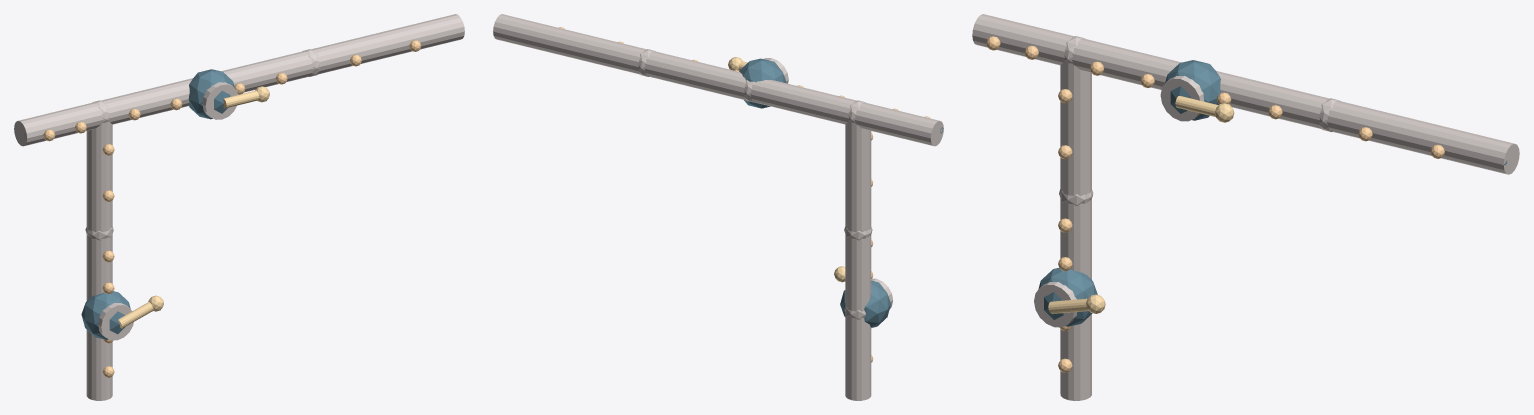
File: plant-11-1.glb
3 views of the same model, side by side, from view 1: azimuth 30°, elevation 25°; view 2: azimuth 150°, elevation 25°; view 3: azimuth 330°, elevation 25° (orthographic). The views are drawn at different scales.
Parts seen in each view (by area): view 1: pipe, dark, flow, handle; view 2: pipe, dark; view 3: pipe, dark, flow, handle.
Part boxes in pixels (box(x1,y1,x2,y2)): pipe: box(14, 14, 464, 400); dark: box(23, 69, 234, 339); flow: box(43, 40, 421, 377); handle: box(118, 86, 269, 328); pipe: box(493, 14, 943, 400); dark: box(739, 58, 943, 327); pipe: box(972, 14, 1519, 400); dark: box(1038, 60, 1507, 326); flow: box(986, 36, 1444, 372); handle: box(1048, 96, 1234, 313).
Bounding box in the file's own units: 2.77 × 1.84 × 0.343.
